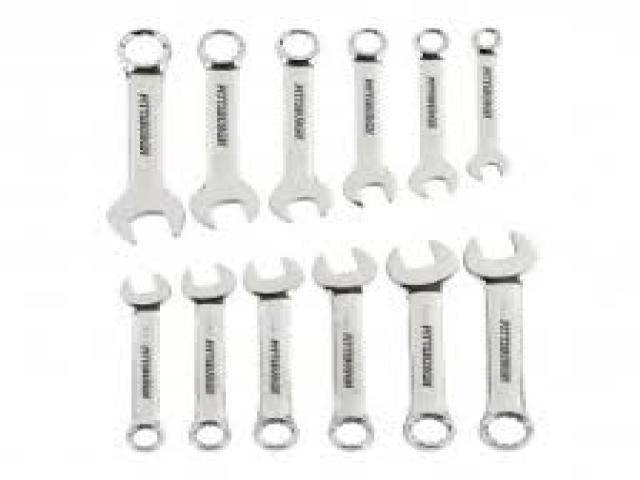Wrench: (108, 29, 185, 242), (465, 232, 536, 449), (386, 241, 459, 447), (191, 30, 259, 226), (312, 248, 376, 448), (270, 29, 328, 220), (244, 259, 302, 448), (181, 264, 235, 449), (118, 274, 173, 452), (344, 28, 395, 205), (410, 28, 458, 195), (469, 28, 510, 182)
